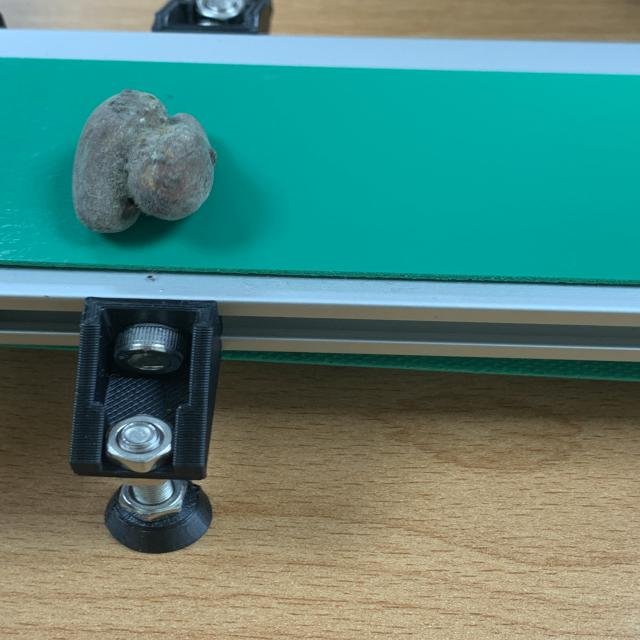Agglomerated_cocoabeans: (0, 61, 316, 289)
